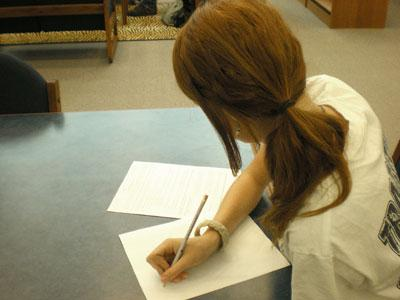person: (148, 1, 400, 298)
